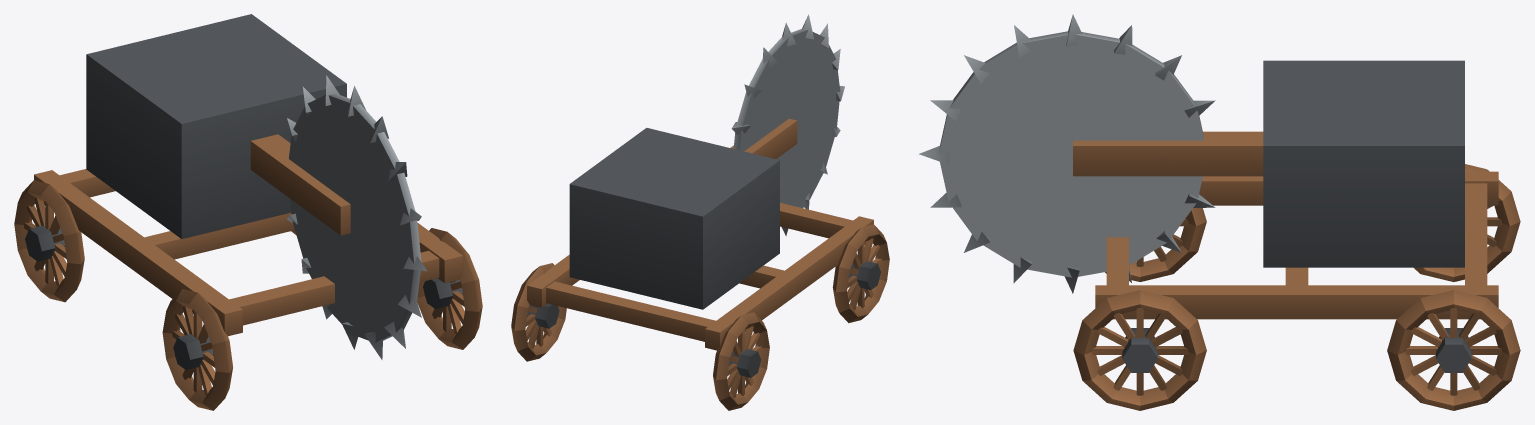
Rendered from M_SAW.glb.
3 renders of one model, left to right at view 1: azimuth 30°, elevation 25°; view 2: azimuth 150°, elevation 25°; view 3: azimuth 270°, elevation 25°, orthographic. The views are drawn at different scales.
Visible parts, largest first — view 1: Body, Saw, Wheel_0, Wheel_2, Wheel_1; view 2: Body, Saw, Wheel_2, Wheel_0, Wheel_3; view 3: Body, Saw, Wheel_1, Wheel_3, Wheel_2, Wheel_0.
Part boxes in pixels (<box>): Body: <box>34,14,462,336</box>; Saw: <box>287,75,426,359</box>; Wheel_0: <box>162,289,232,410</box>; Wheel_2: <box>14,180,84,302</box>; Wheel_1: <box>417,228,482,349</box>; Body: <box>527,118,873,350</box>; Saw: <box>731,14,844,236</box>; Wheel_2: <box>713,312,769,410</box>; Wheel_0: <box>832,224,889,323</box>; Wheel_3: <box>511,263,566,361</box>; Body: <box>1073,60,1498,319</box>; Saw: <box>919,14,1215,293</box>; Wheel_1: <box>1073,290,1206,410</box>; Wheel_3: <box>1387,290,1520,410</box>; Wheel_2: <box>1414,164,1520,281</box>; Wheel_0: <box>1105,208,1206,281</box>.
Bounding box in the file's own units: 1.54 × 1.64 × 2.69.
1 material, 1 textured.
